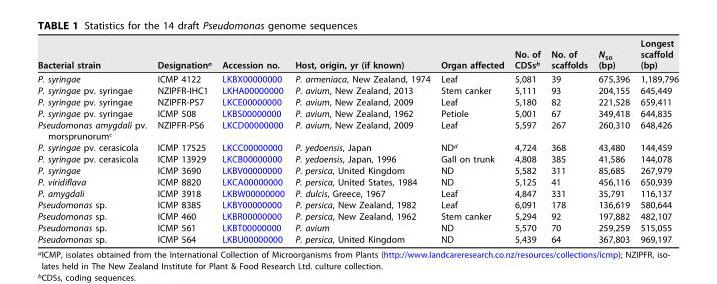table: (37, 37, 678, 244)
table column: (289, 37, 434, 244), (37, 37, 151, 244), (434, 37, 508, 244), (216, 37, 289, 244), (151, 37, 216, 244), (545, 37, 592, 244), (634, 37, 678, 244), (592, 37, 634, 244), (508, 37, 545, 244)
table column header: (37, 37, 678, 71)
table row: (37, 37, 678, 71), (37, 118, 678, 141), (37, 71, 678, 84), (37, 95, 678, 107), (37, 152, 678, 164), (37, 175, 678, 187), (37, 198, 678, 210), (37, 221, 678, 233), (37, 84, 678, 95), (37, 107, 678, 118), (37, 141, 678, 152), (37, 164, 678, 175), (37, 187, 678, 198), (37, 210, 678, 221), (37, 233, 678, 244)
